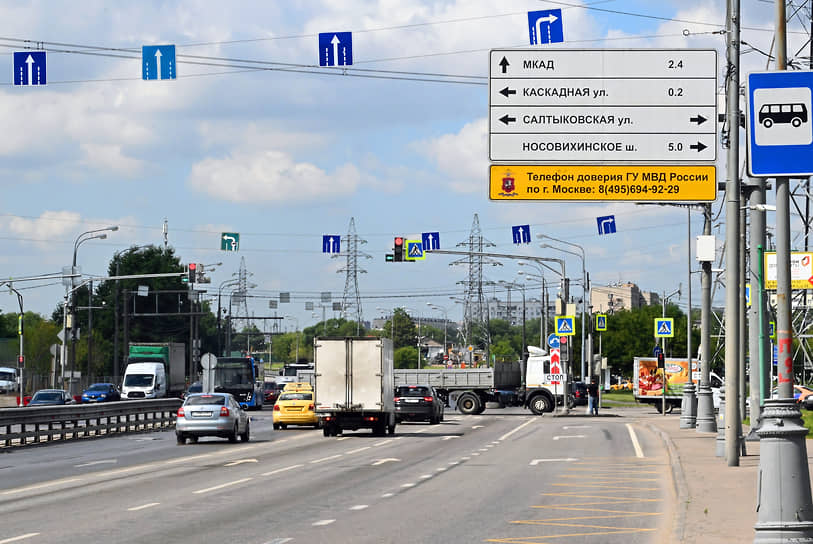tl: (386, 234, 422, 264), (175, 261, 203, 285)
